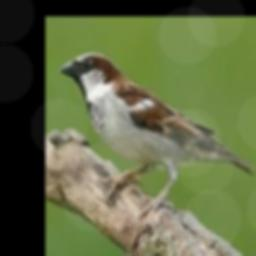Sparrow: (60, 52, 256, 220)
